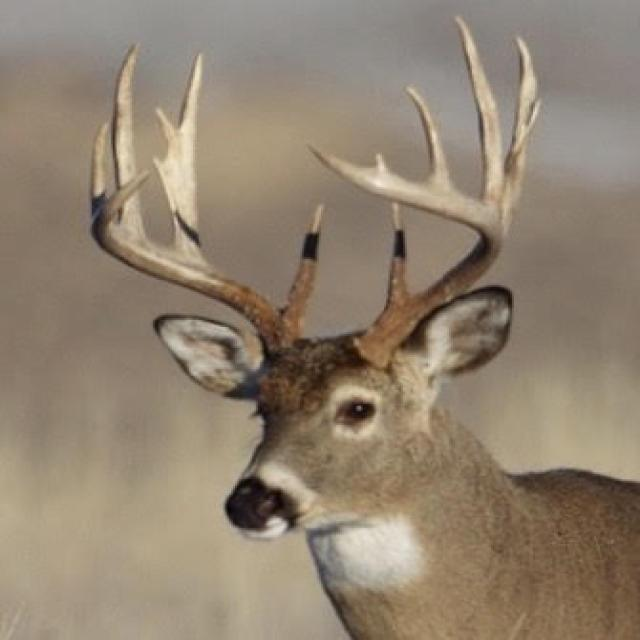E1: (152, 155, 165, 184)
E2: (153, 105, 179, 142)
E3: (375, 152, 389, 172)
L-F: (306, 142, 504, 368)
L-G1: (385, 203, 410, 308)
L-G3: (452, 13, 504, 214)
L-G4: (404, 84, 459, 191)
R-G1: (281, 201, 325, 325)
R-G2: (165, 50, 210, 264)
